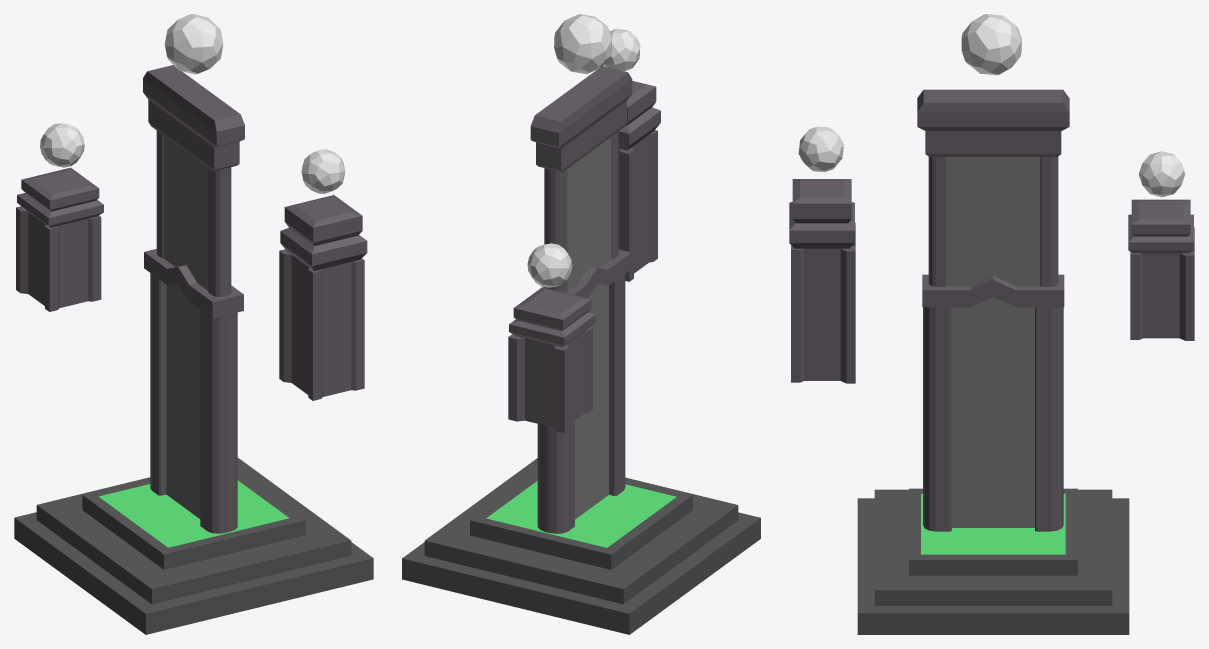
Rendered from TowerDef.fbx.
3 views of the same model, side by side, from view 1: azimuth 30°, elevation 25°; view 2: azimuth 150°, elevation 25°; view 3: azimuth 270°, elevation 25° (orthographic). The views are drawn at different scales.
Parts seen in each view (by area): view 1: Cube; view 2: Cube; view 3: Cube.
Part boxes in pixels (left/top/right/bottom): Cube: left=14, top=14, right=373, bottom=634; Cube: left=402, top=14, right=760, bottom=634; Cube: left=789, top=14, right=1194, bottom=634.
Size of the model in its own units: 791 by 1802 by 1181.
